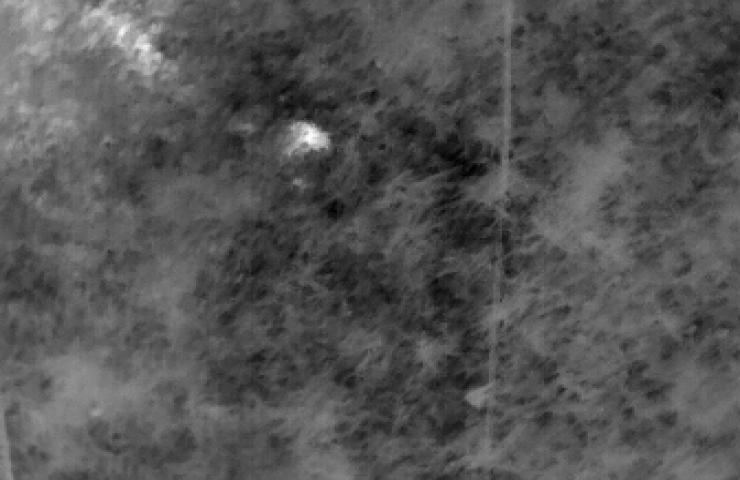landmines: (287, 121, 333, 158)
